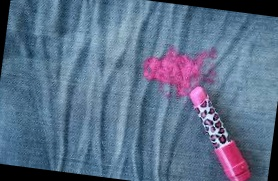lipstick: (141, 48, 222, 101), (185, 44, 220, 72)
